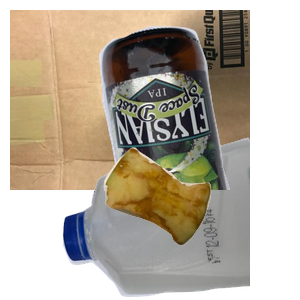cardboard: (10, 10, 250, 190)
glass: (97, 24, 300, 204)
plastic: (60, 135, 300, 300)
trash: (101, 145, 300, 300)
